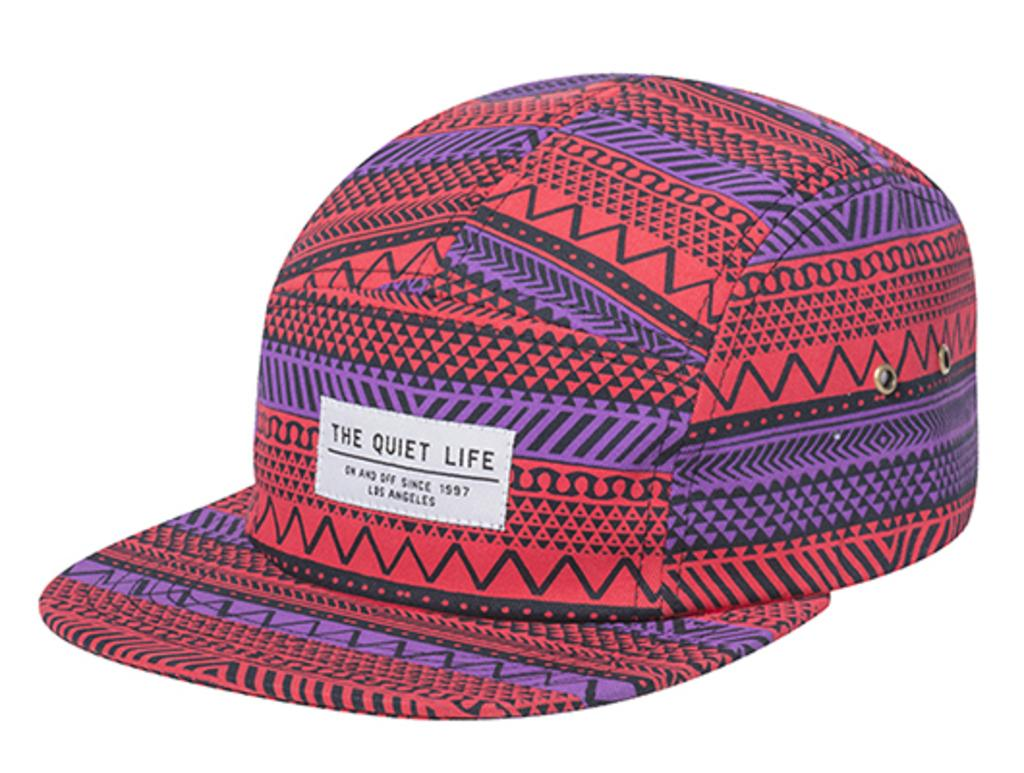Hat: (30, 65, 976, 722)
